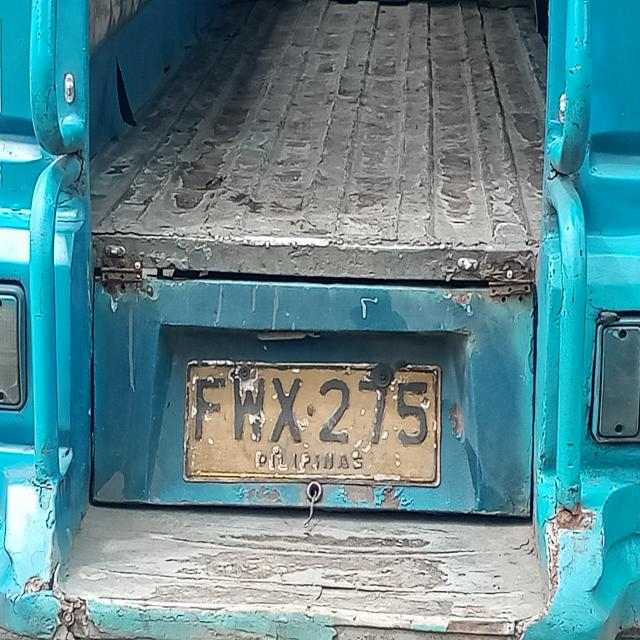plate: (179, 356, 445, 494)
